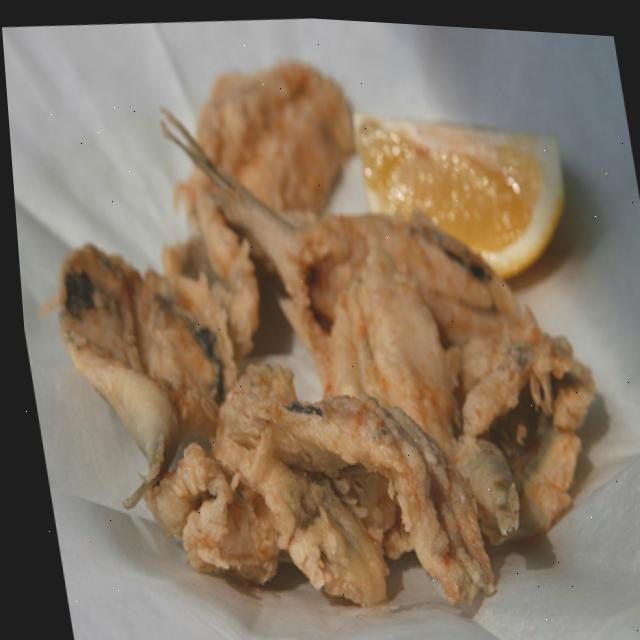炸货点心: (33, 85, 617, 608)
熟制海鲜: (33, 85, 617, 608)
